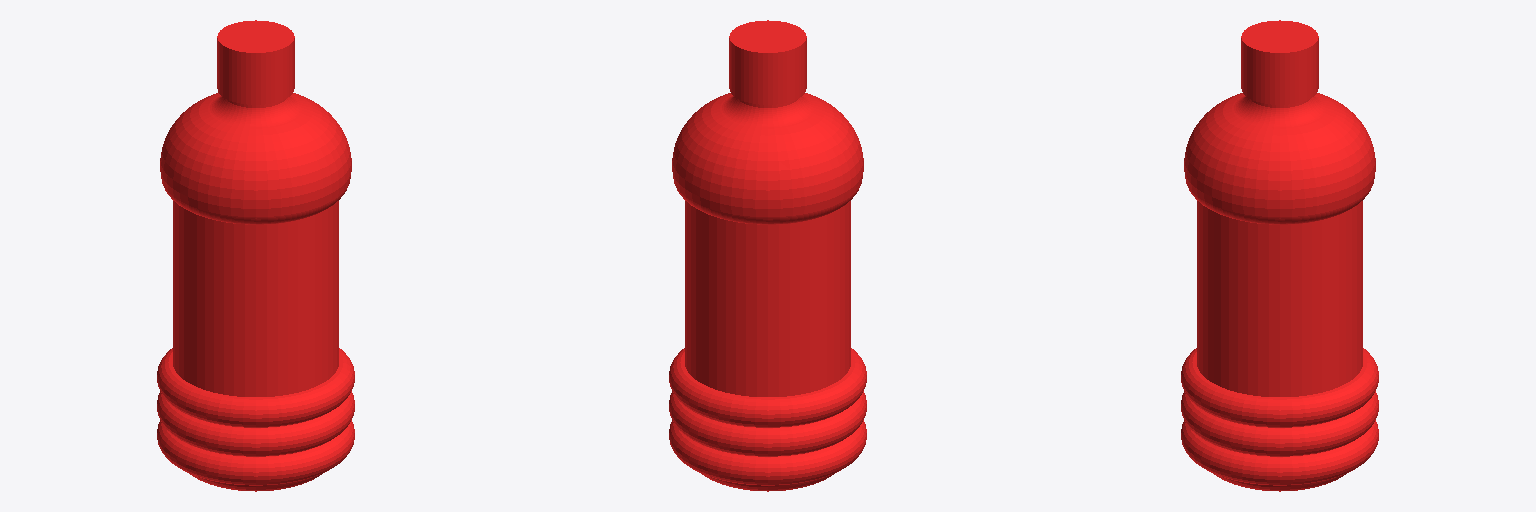
URDF robot description (bottle):
<?xml version="0.0" ?>
<robot name="bottle">
    <link concave="yes" name="base_link">
        <!-- <contact>
            <lateral_friction value="3.0"/>
            <rolling_friction value="3.0"/>
            <spinning_friction value="3.0"/>
        </contact> -->
        <inertial>
            <origin xyz="0 0 0.03"/>
            <mass value="1"/>
            <inertia ixx="1" ixy="0" ixz="0" iyy="1" iyz="0" izz="1"/>
        </inertial>
        <visual>
            <origin xyz="0.0 -0.0  0"/>
            <geometry>
                <mesh filename="bottle.obj" scale="0.006 0.006 0.006 "/>
            </geometry>
      <material name="bottle">
        <color rgba="1.0 0.2 0.2 1"/>
        <specular rgb="1 1 1"/>
      </material>
        </visual>
        <collision concave="yes">
            <origin xyz="0.0 -0.0 0"/>
            <geometry>
                <mesh filename="bottle.obj" scale="0.006 0.006 0.006 "/>
            </geometry>
        </collision>
    </link>
</robot>

--- Facts derived from the render (not from the file) ---
3 views of the same robot in one strip: view 1: azimuth 30°, elevation 25°; view 2: azimuth 150°, elevation 25°; view 3: azimuth 270°, elevation 25° (orthographic).
Robot: bottle — 1 links, 0 joints (none); root link base_link; default pose: every joint at zero.
Links seen in each view (by area): view 1: base_link; view 2: base_link; view 3: base_link.
Boxes of the visible links, box(x1,y1,x2,y2) form: base_link: box(157, 20, 354, 491); base_link: box(669, 20, 866, 491); base_link: box(1181, 20, 1378, 491).
Bounding box of the posed robot: 0.0688 × 0.0688 × 0.1631 m (x, y, z).
Meshes: 1 distinct files referenced, 1 mesh visuals loaded (1 OBJ).